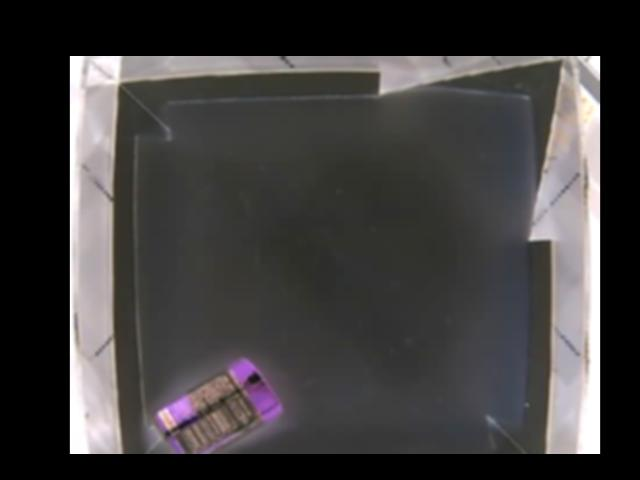Bottle: (152, 356, 282, 452)
